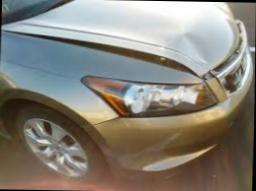Bonnet: (3, 0, 243, 80)
